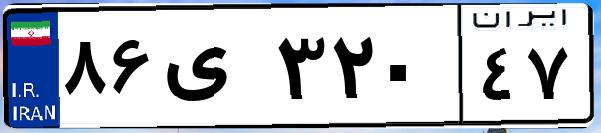0: (385, 28, 445, 110)
2: (330, 28, 385, 110)
3: (270, 28, 330, 110)
4: (475, 38, 525, 113)
6: (110, 28, 158, 98)
7: (525, 38, 570, 115)
8: (57, 26, 110, 100)
ی: (158, 20, 270, 120)
